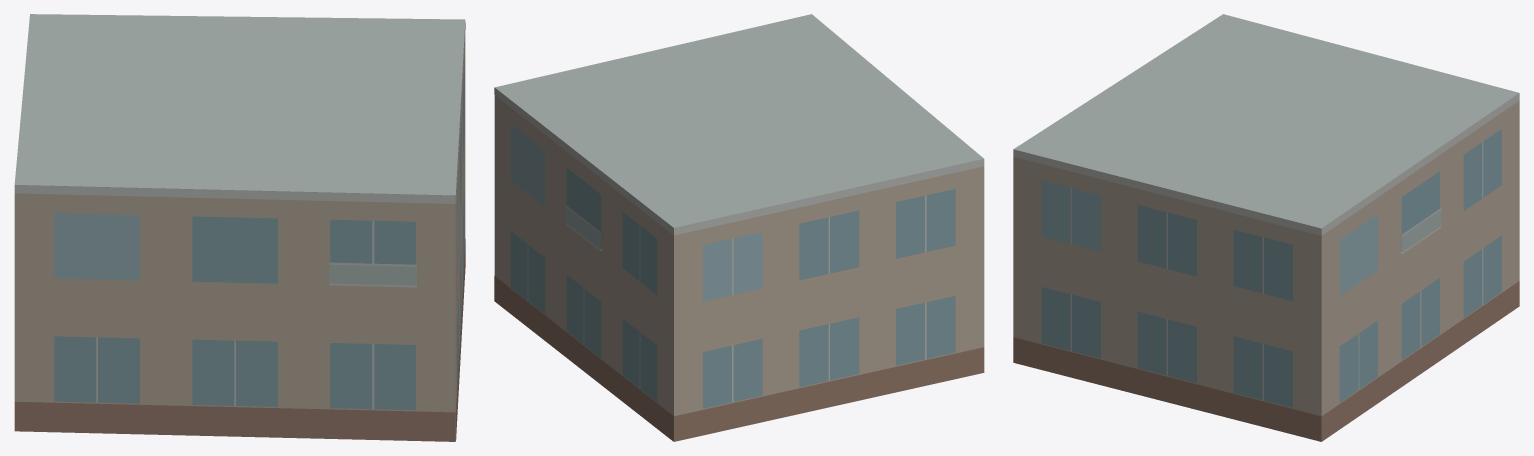
File: survey-upis-32678315.glb
3 views of the same model, side by side, from view 1: azimuth 30°, elevation 25°; view 2: azimuth 150°, elevation 25°; view 3: azimuth 270°, elevation 25° (orthographic). The views are drawn at different scales.
Parts seen in each view (by area): view 1: survey-upis-32678315.tmp; view 2: survey-upis-32678315.tmp; view 3: survey-upis-32678315.tmp.
Part boxes in pixels (x1,y1,x2,y2): survey-upis-32678315.tmp: (14,14,465,441); survey-upis-32678315.tmp: (494,14,984,441); survey-upis-32678315.tmp: (1013,14,1519,441).
Size of the model in its own units: 15.1 by 7 by 15.06.
